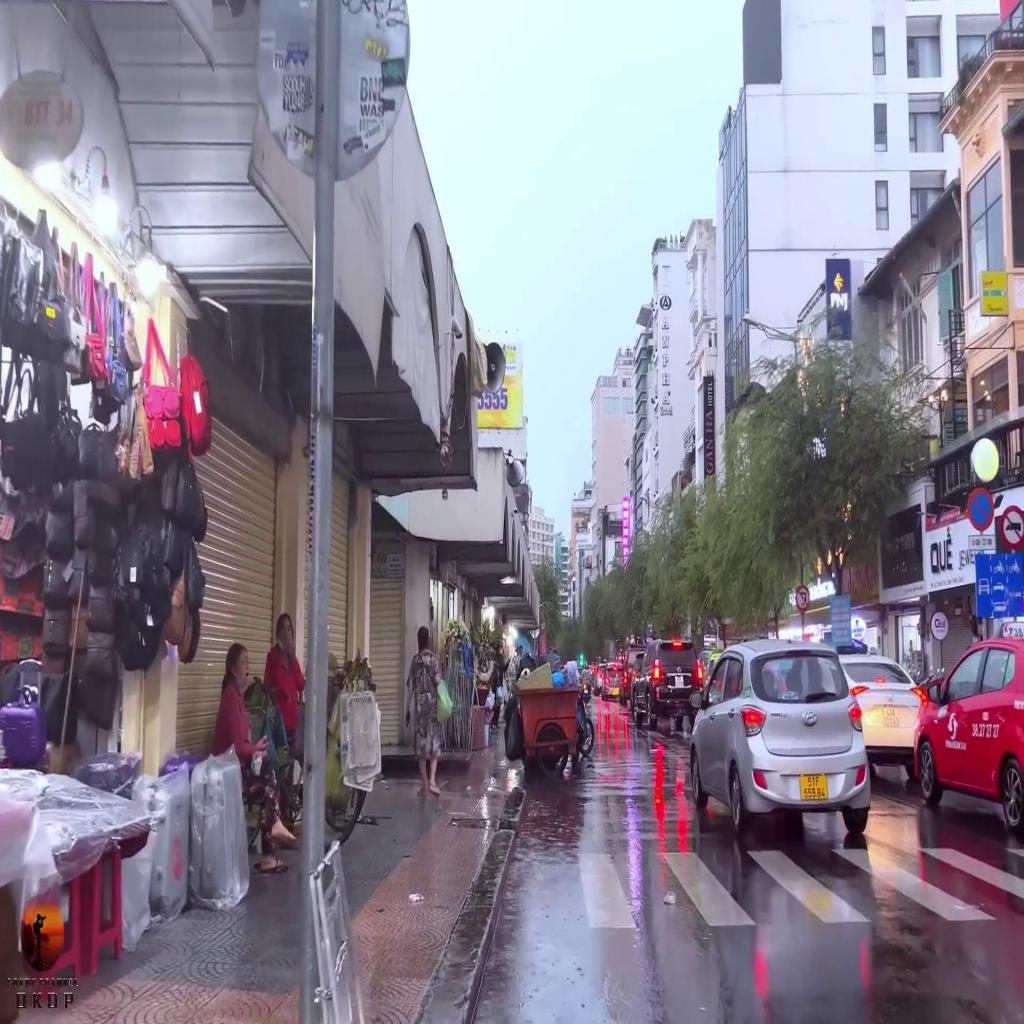cam_do_xe: (969, 486, 994, 530)
cam_o_to_re_trai: (796, 587, 810, 610)
cam_o_to_tai_trong_luong_qua_10t: (1000, 505, 1024, 551)
khac: (975, 553, 1023, 617), (970, 535, 995, 548)
